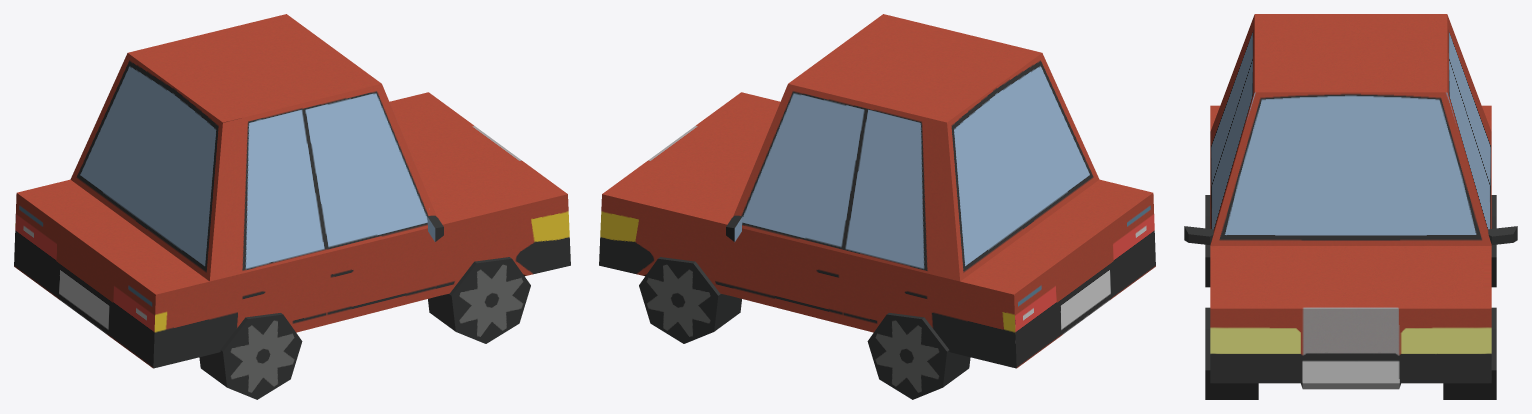
Rendered from Carro2LOD1.fbx.
The picture shows the model from 3 angles, left to right: view 1: azimuth 30°, elevation 25°; view 2: azimuth 150°, elevation 25°; view 3: azimuth 270°, elevation 25°; orthographic projection.
Visible parts, largest first — view 1: carro2LOD1; view 2: carro2LOD1; view 3: carro2LOD1.
Boxes of the visible parts, x1,y1,x2,y2 form: carro2LOD1: (14,14,570,399); carro2LOD1: (599,14,1155,399); carro2LOD1: (1184,14,1517,399).
Bounding box in the file's own units: 449 × 269 × 307.
Materials: 1 (1 with a texture image).
